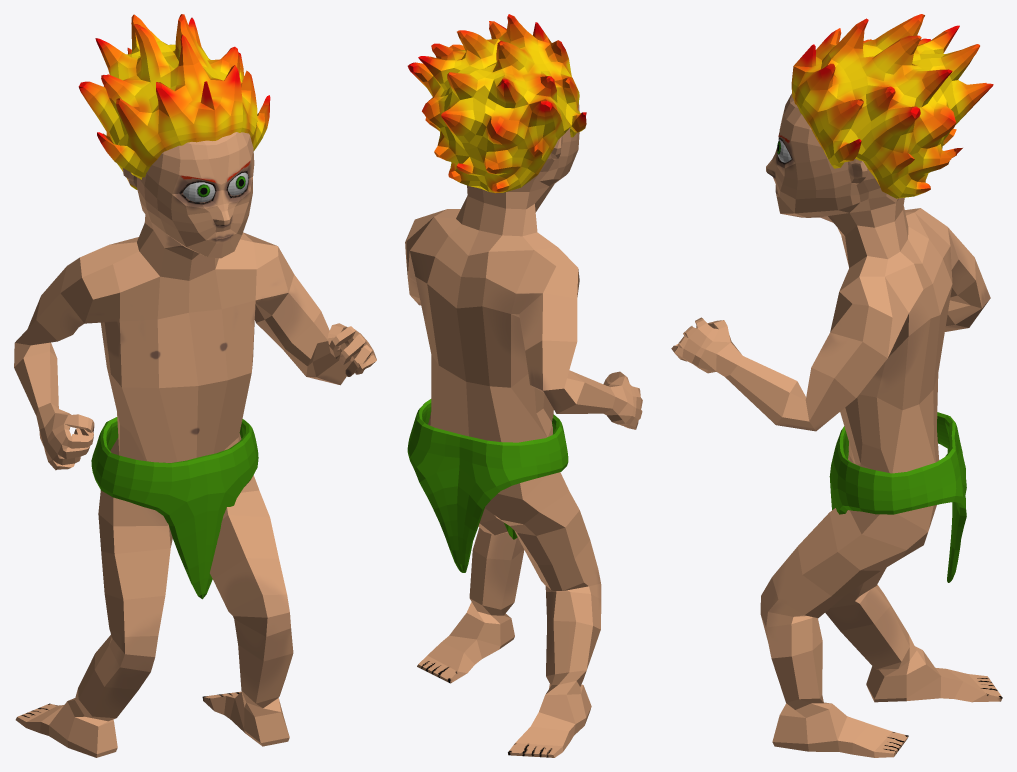
Rendered from curupira_01.glb.
3 renders of one model, left to right at view 1: azimuth 30°, elevation 25°; view 2: azimuth 150°, elevation 25°; view 3: azimuth 270°, elevation 25°, orthographic. The views are drawn at different scales.
Parts seen in each view (by area): view 1: polySurface1.001, polySurface1, Group52388; view 2: polySurface1.001, polySurface1, Group52388; view 3: polySurface1.001, polySurface1, Group52388.
Part boxes in pixels (<box>): polySurface1.001: <box>14,132,376,757</box>; polySurface1: <box>78,14,270,189</box>; Group52388: <box>91,417,258,599</box>; polySurface1.001: <box>405,103,642,757</box>; polySurface1: <box>407,14,586,193</box>; Group52388: <box>407,399,568,572</box>; polySurface1.001: <box>671,93,1002,757</box>; polySurface1: <box>791,14,993,198</box>; Group52388: <box>829,412,966,582</box>.
Size of the model in its own units: 2.82 by 7.19 by 3.02.
4 materials, 3 textured.
